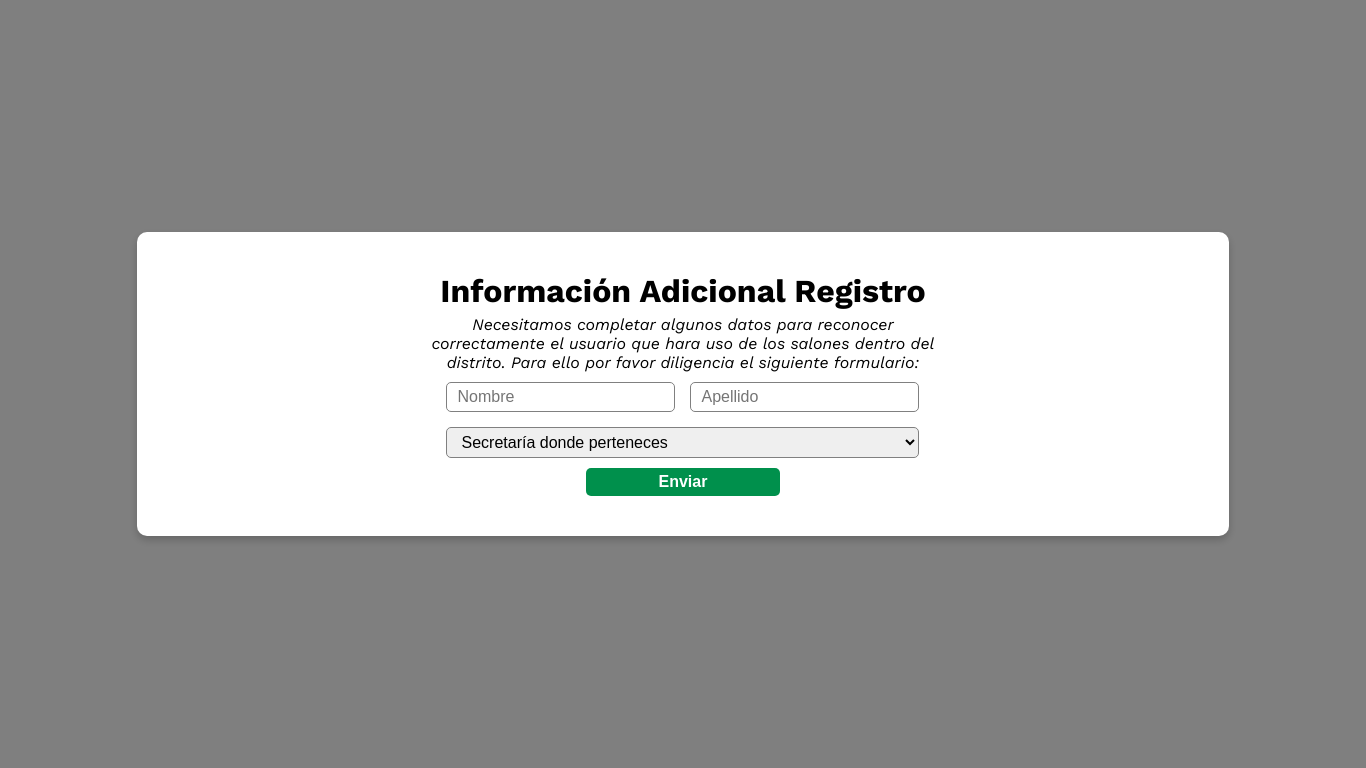
Test: UserFormModal › should handle server error response
In the field with placeholder "Nombre": (561, 397) x1=446 y1=382 x2=676 y2=412, type "Juan"
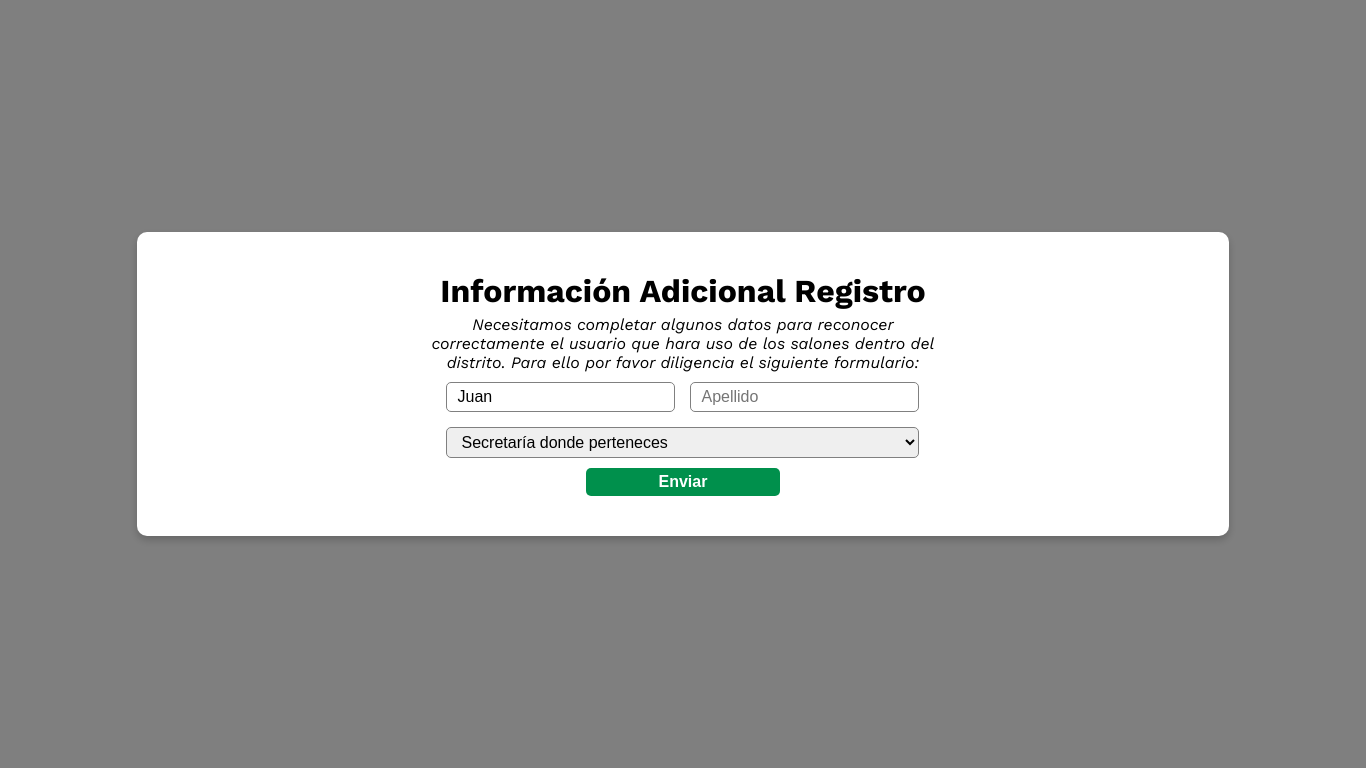
In the field with placeholder "Apellido": (805, 397) x1=690 y1=382 x2=920 y2=412, type "Pérez"
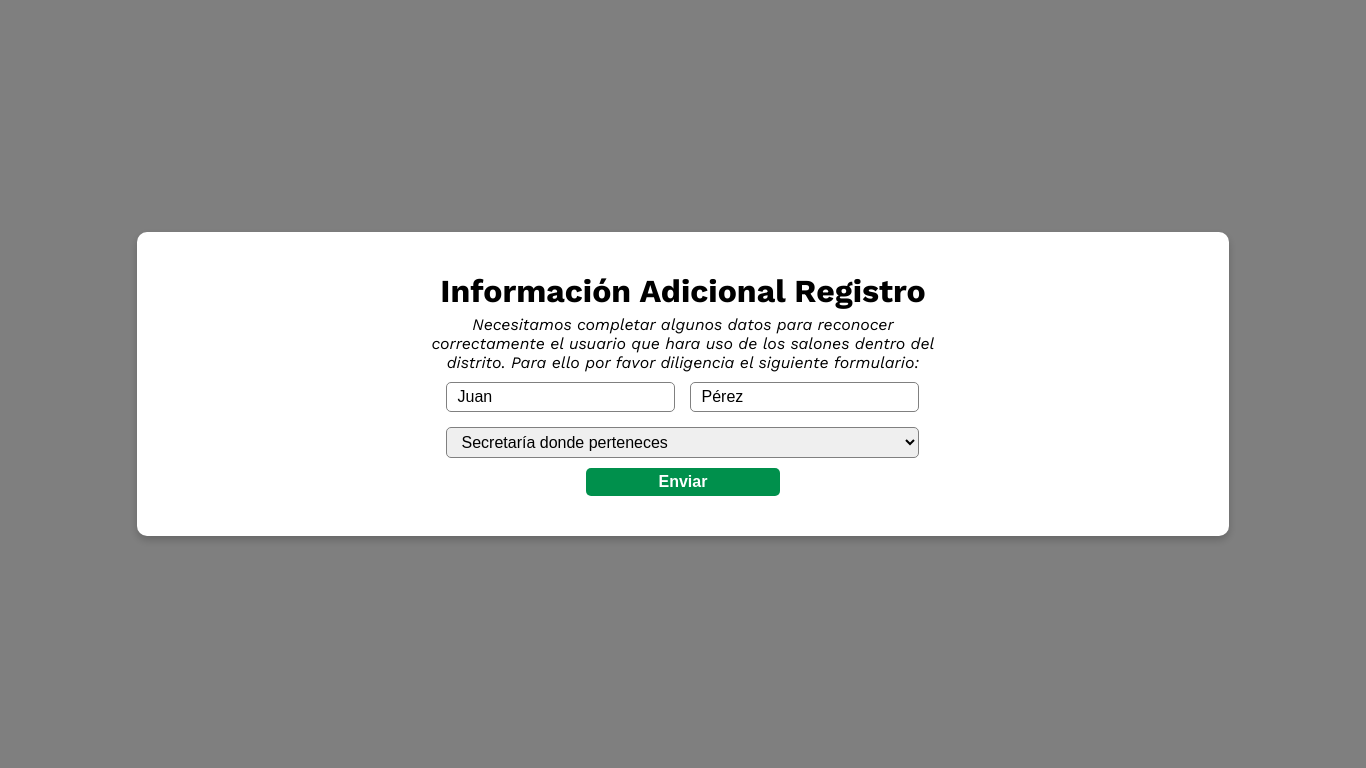
Select "Secretaría de Desarrollo Económico" in the dropdown showing "Secretaría donde perteneces": (683, 442) x1=446 y1=427 x2=920 y2=458
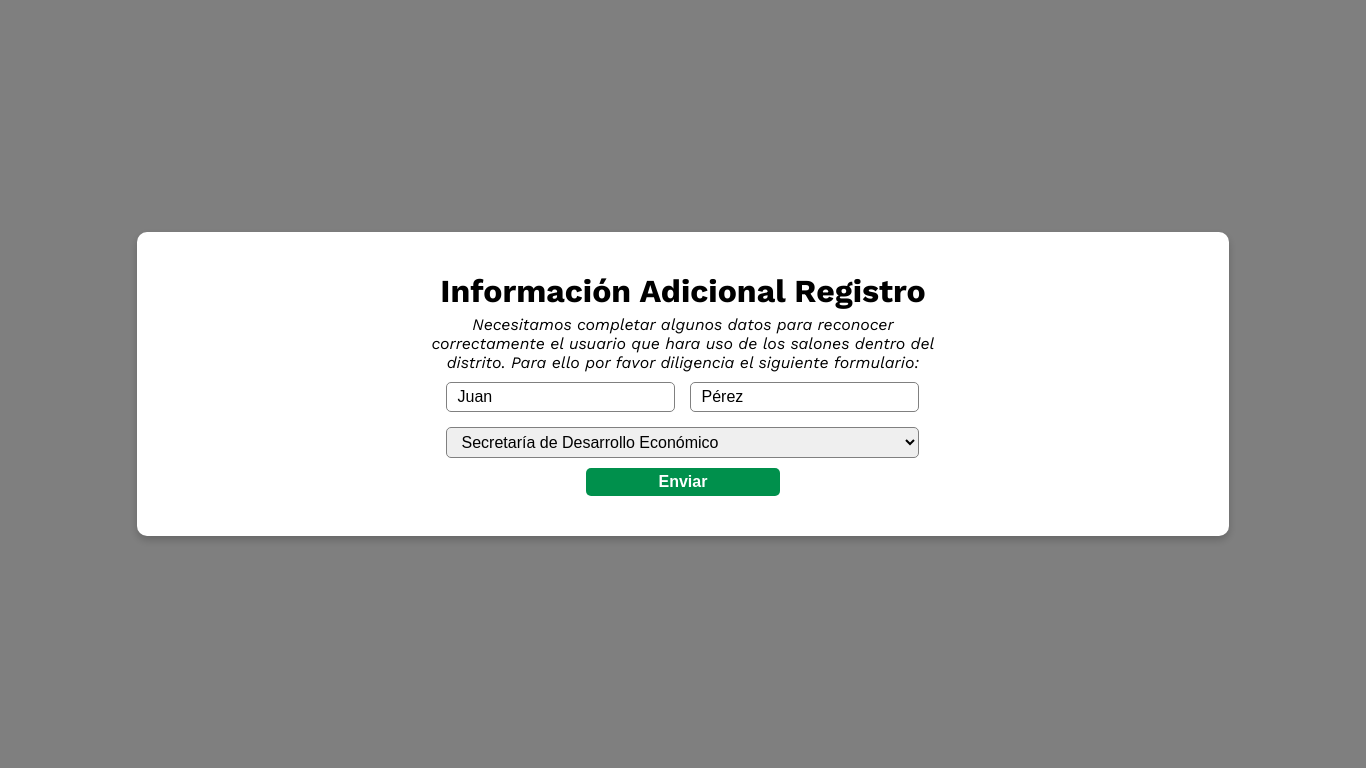
Click the button "Enviar": (683, 482) x1=586 y1=468 x2=780 y2=496
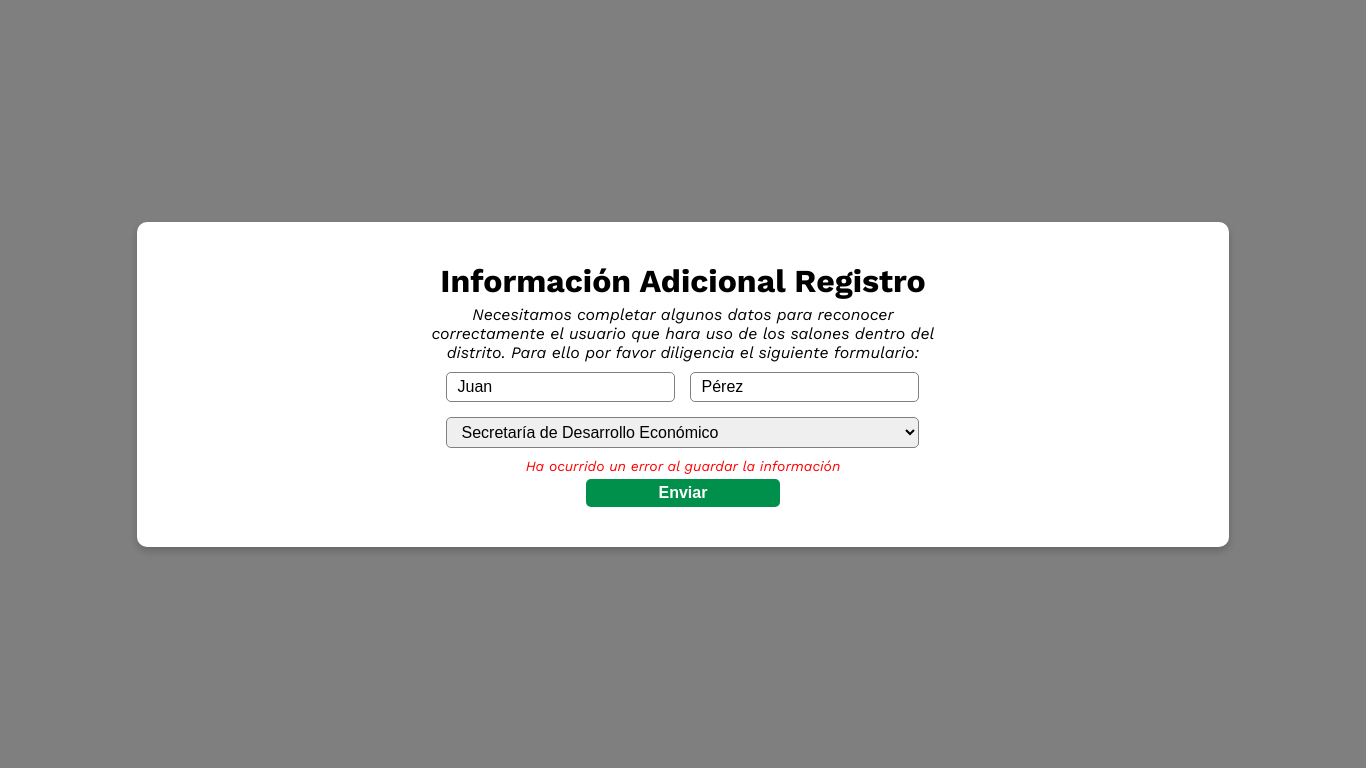
Now the text "Ha ocurrido un error al guardar la información" is shown, box x1=526 y1=458 x2=840 y2=474
